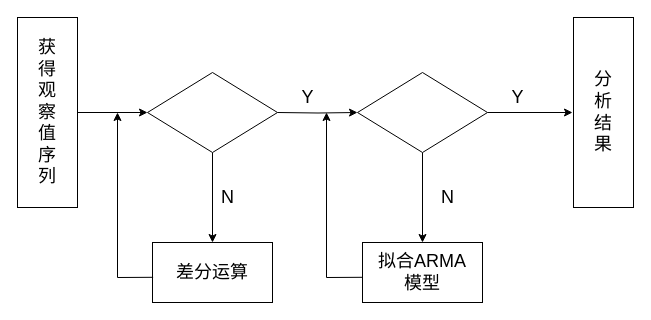
This 651x320 diagram has some shape labels left out. Each missing label, with the box of its shape:
平稳性检验: (146, 72, 278, 152)
白噪声检验: (356, 72, 488, 152)
